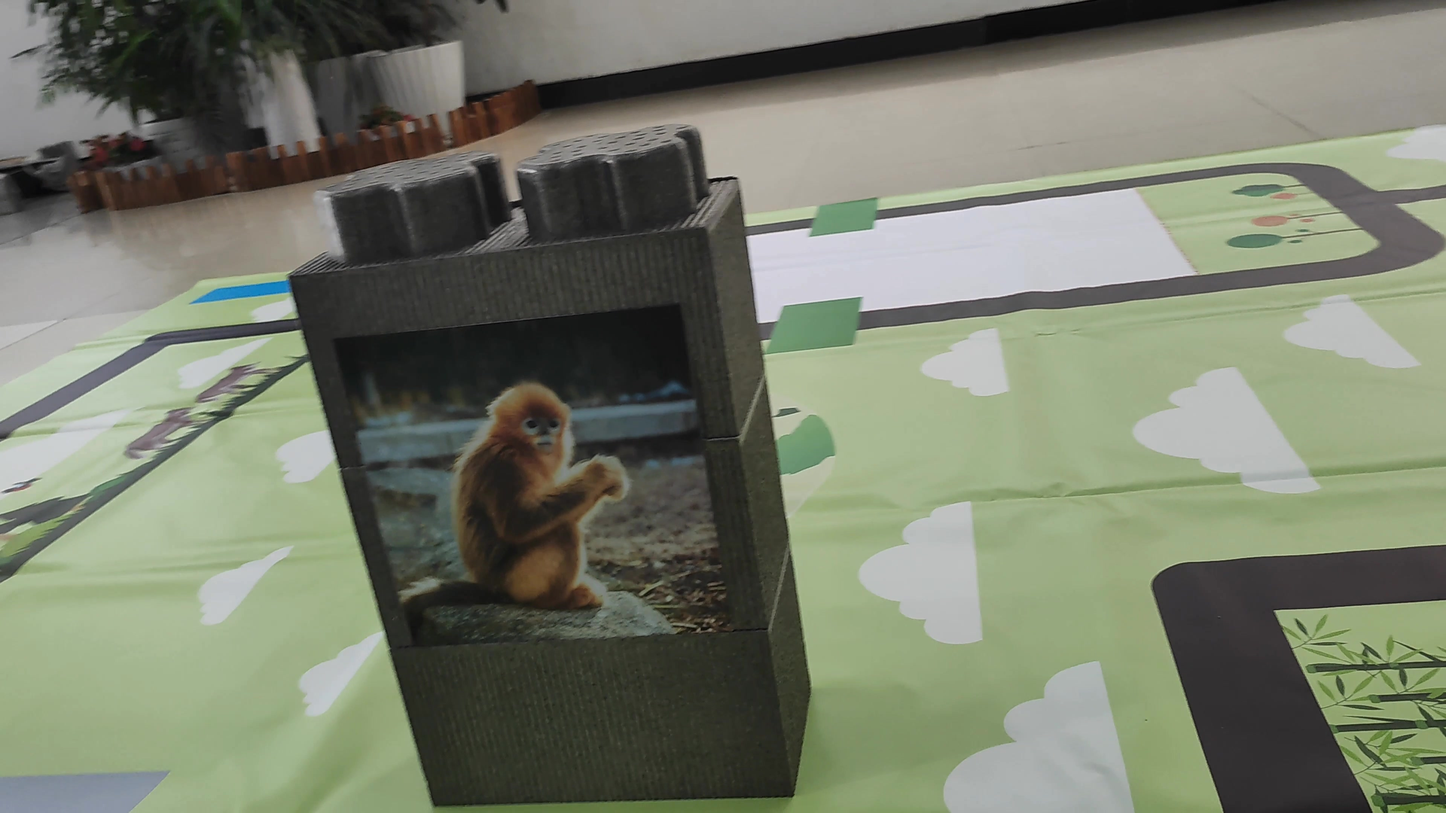monkey: (430, 378, 654, 626)
